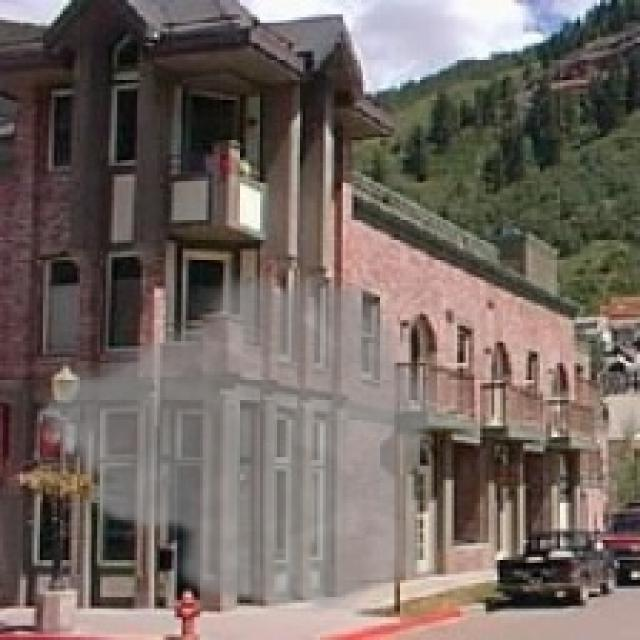smoke: (28, 263, 443, 617)
